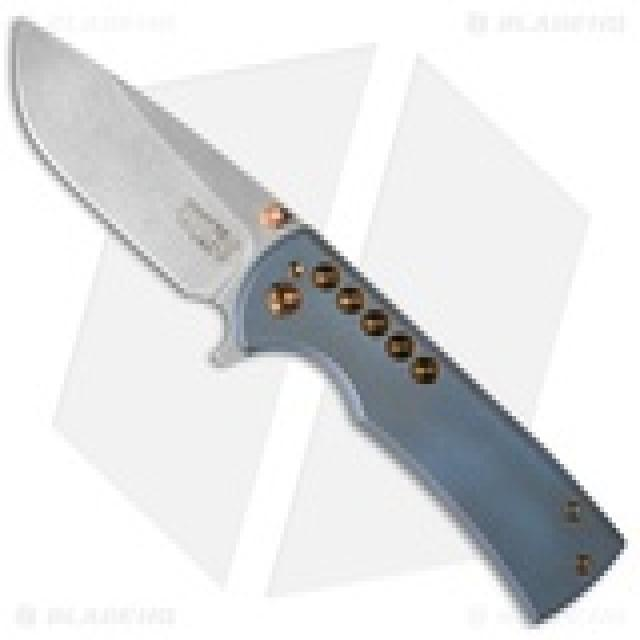Knife: (9, 8, 624, 616)
